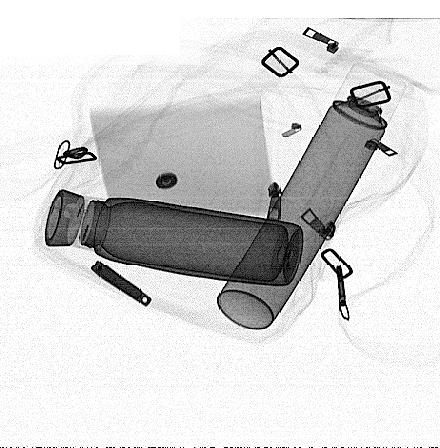Sprayer: (216, 63, 406, 330)
